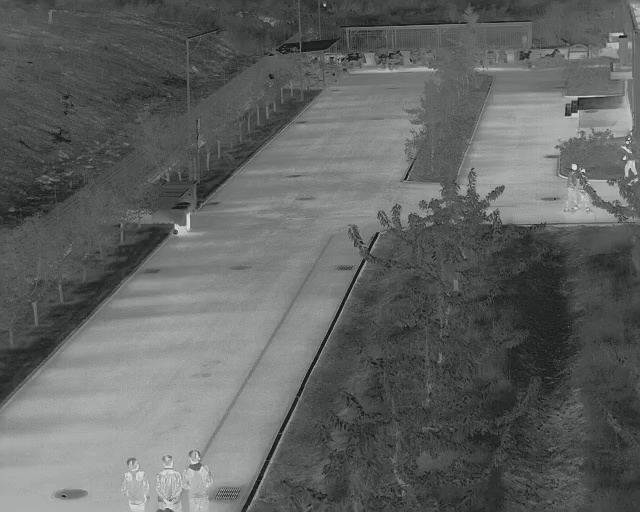person: (184, 451, 214, 512), (120, 457, 149, 512), (155, 456, 182, 512), (563, 162, 580, 213), (620, 135, 639, 180)
